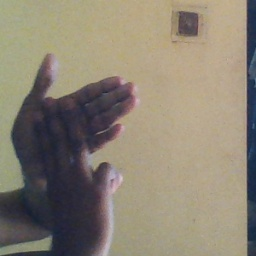M: (8, 52, 138, 225)
